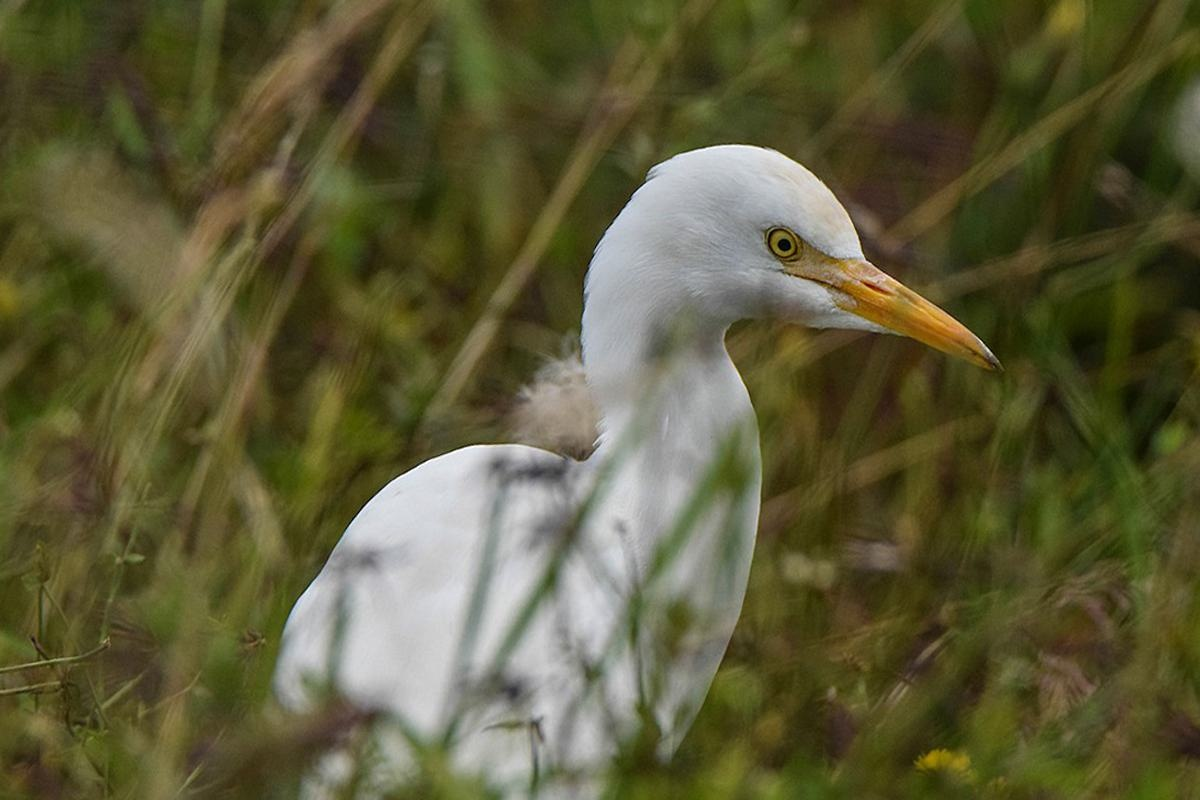egret: (291, 126, 1006, 800)
